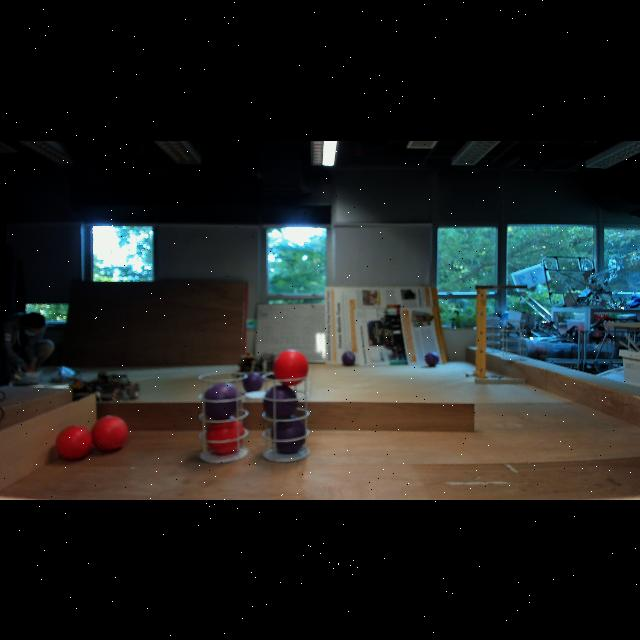P: (203, 380, 241, 420), (270, 418, 306, 454), (263, 385, 297, 419), (243, 372, 263, 392), (424, 350, 440, 366), (341, 350, 355, 366)
R: (90, 414, 130, 452), (205, 418, 243, 456), (55, 424, 93, 460), (273, 349, 309, 385)
S: (197, 371, 251, 465), (261, 370, 311, 464), (500, 317, 526, 361), (481, 314, 502, 354)
